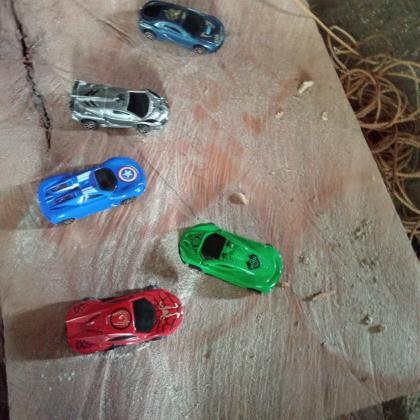Car: (63, 286, 184, 358), (37, 154, 148, 227), (179, 222, 284, 296), (68, 78, 172, 134), (139, 0, 228, 55)
